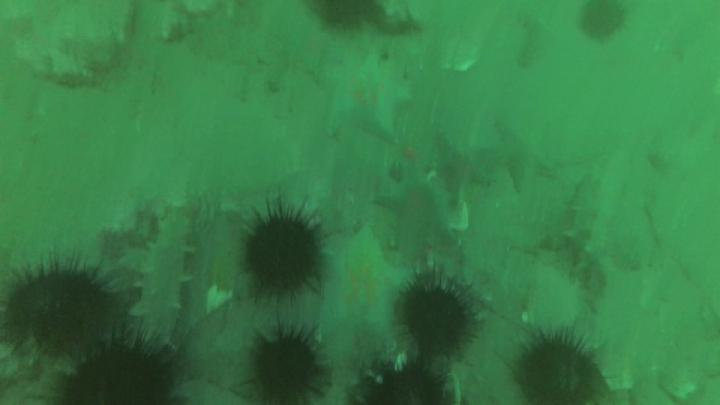echinus: (4, 266, 109, 358), (63, 344, 174, 405), (246, 218, 318, 293), (518, 336, 596, 405), (406, 289, 472, 357), (254, 334, 316, 404), (366, 367, 451, 405), (581, 1, 627, 40), (314, 2, 378, 28)
holothurian: (134, 214, 193, 349), (570, 169, 613, 274)
starfish: (320, 226, 414, 345), (318, 50, 413, 140), (375, 172, 457, 254), (491, 122, 559, 189), (434, 135, 496, 190)
